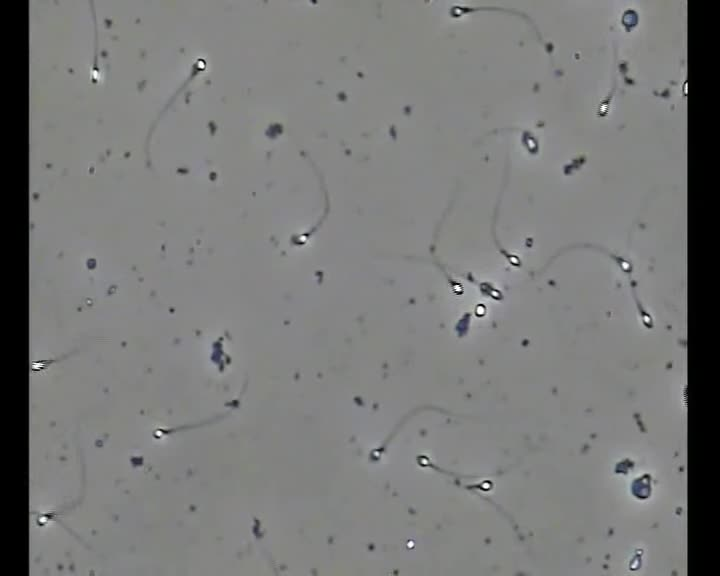spermhead: (631, 473, 652, 500), (620, 8, 639, 31), (479, 282, 503, 300), (455, 312, 471, 337), (465, 478, 493, 492), (521, 130, 538, 153), (614, 457, 635, 474), (448, 4, 472, 18), (628, 549, 643, 571), (615, 256, 632, 273), (192, 57, 207, 75), (36, 512, 54, 527), (503, 251, 521, 266), (291, 231, 310, 245), (368, 445, 384, 461), (89, 65, 102, 84), (640, 309, 653, 328), (598, 97, 610, 117), (30, 360, 51, 371), (416, 454, 432, 468), (152, 427, 170, 439), (474, 303, 486, 317), (451, 281, 463, 294), (224, 399, 239, 409), (465, 272, 476, 283), (407, 538, 415, 549), (682, 80, 687, 95), (684, 386, 687, 407)
